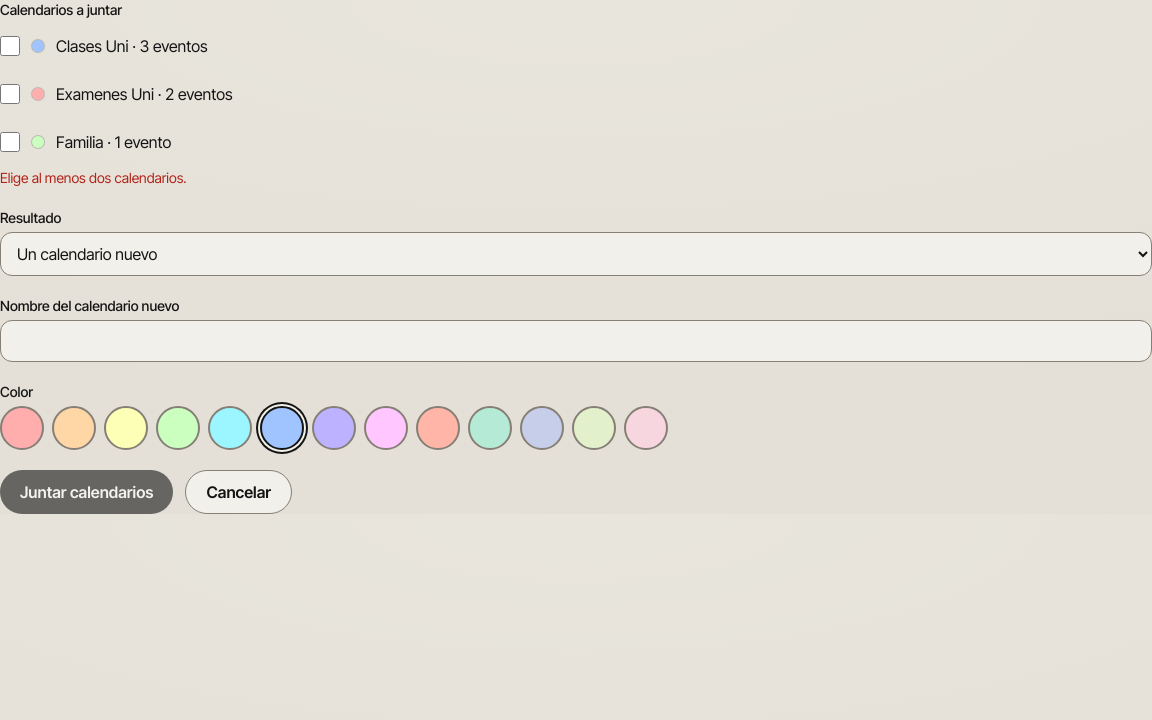
MergeForm (RF-49..RF-52) › shows field errors next to the field
Click the checkbox labelled "Clases Uni · 3 eventos" at (10, 46), box [0, 36, 20, 56]
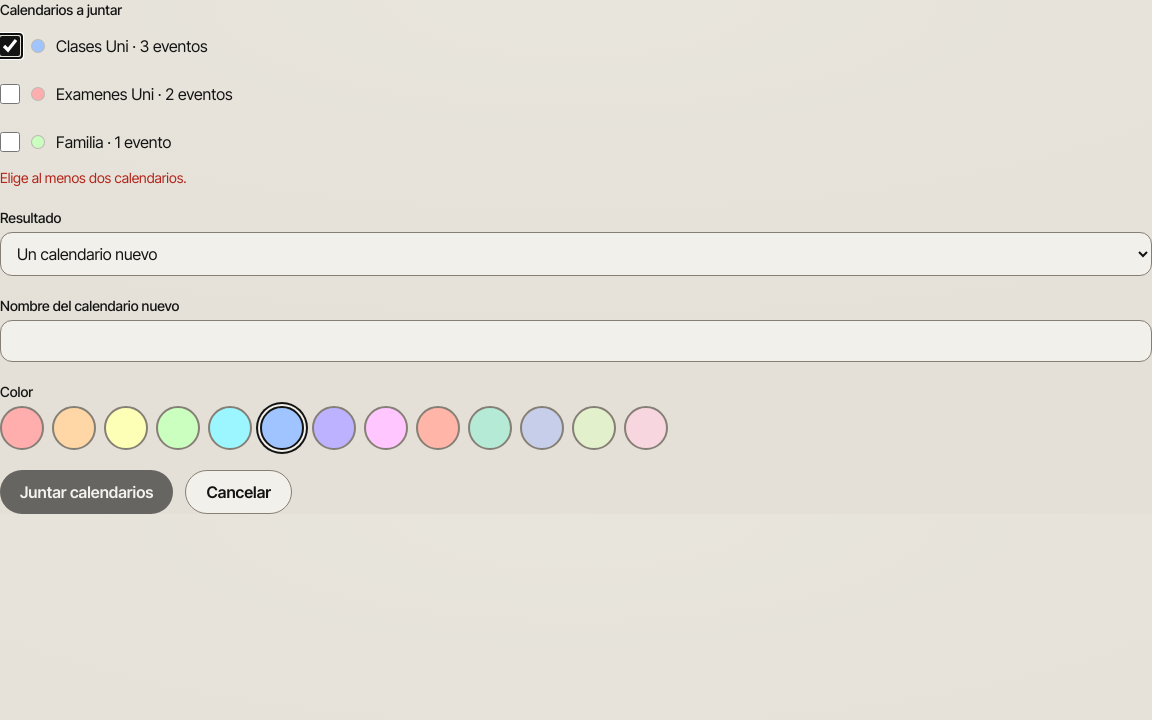
Click the checkbox labelled "Examenes Uni · 2 eventos" at (10, 94), box [0, 84, 20, 104]
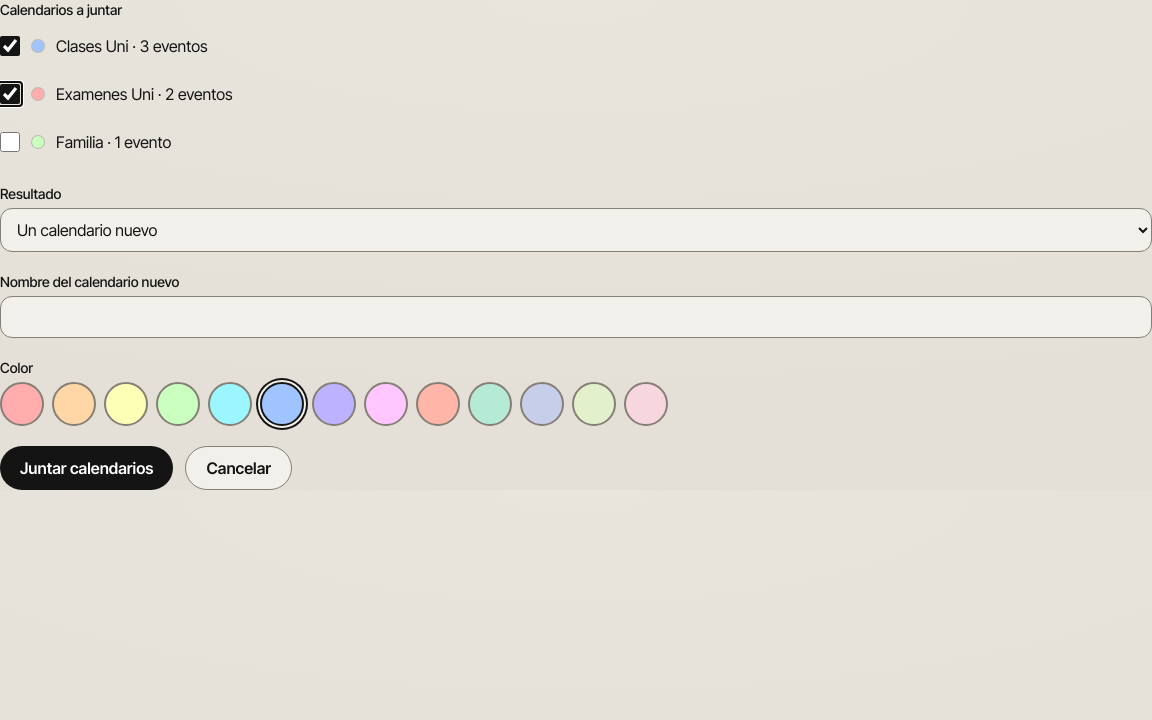
Click the button "Juntar calendarios" at (87, 468), box [0, 446, 174, 490]
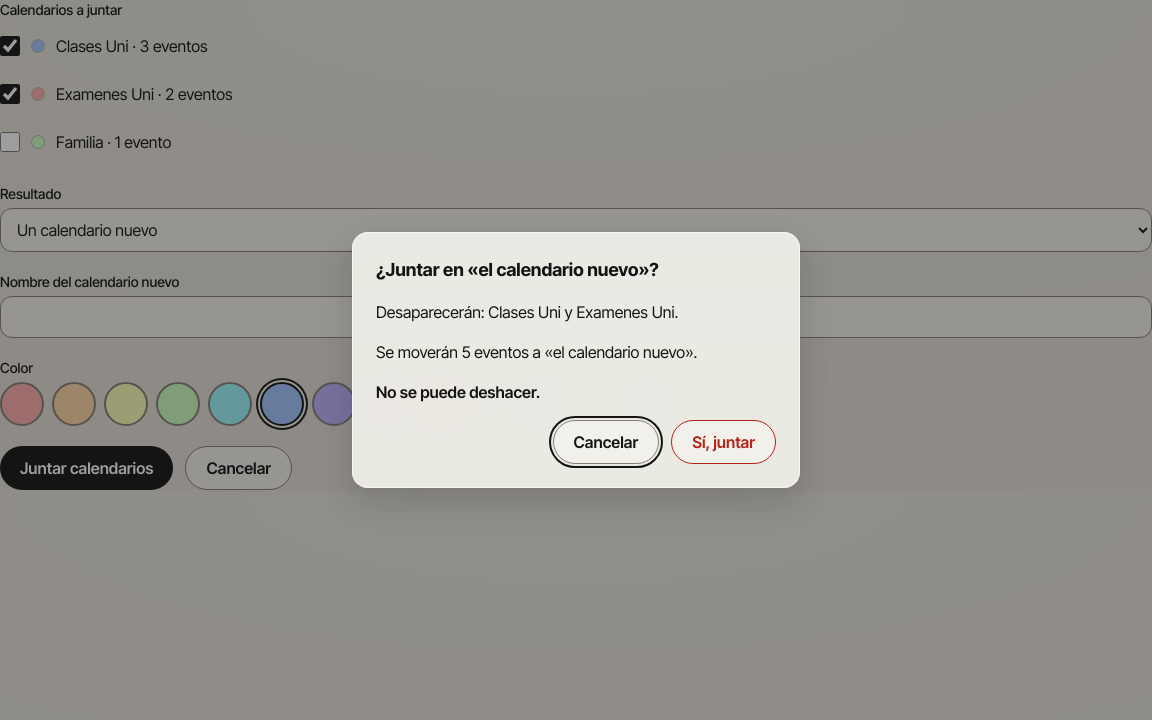
Click the button "Sí, juntar" at (724, 442), box [671, 420, 776, 464]
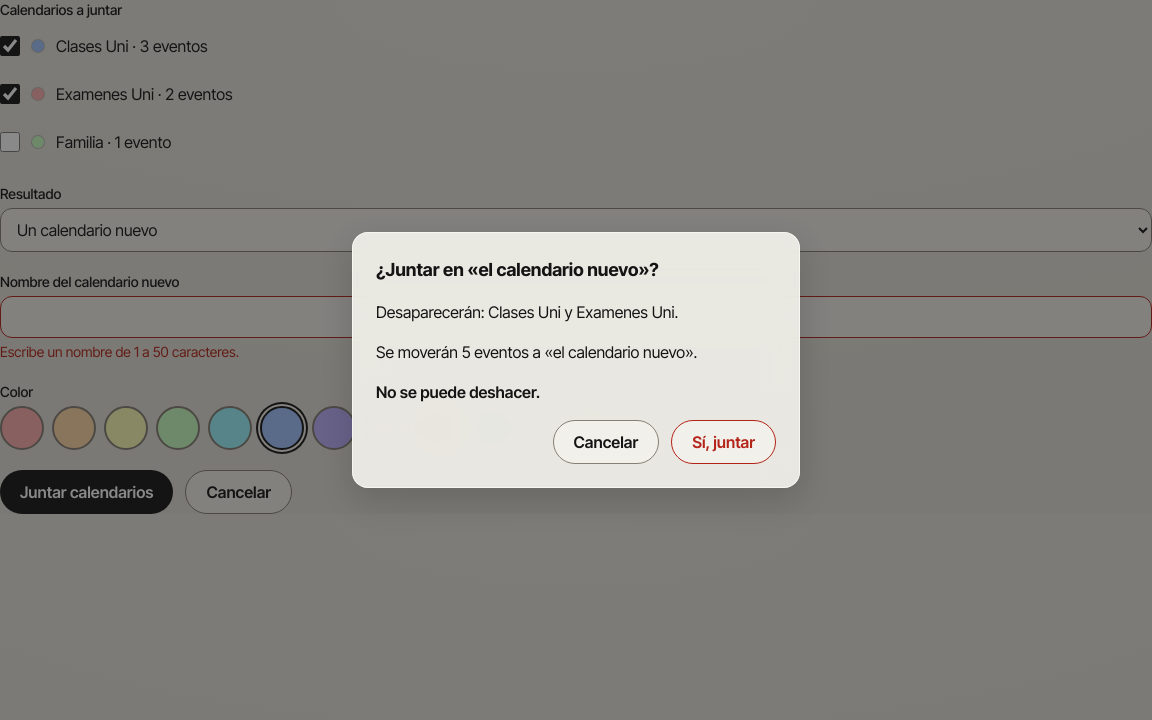
Expected: the text "Escribe un nombre de 1 a 50 caracteres." is shown, [0, 343, 239, 360]
